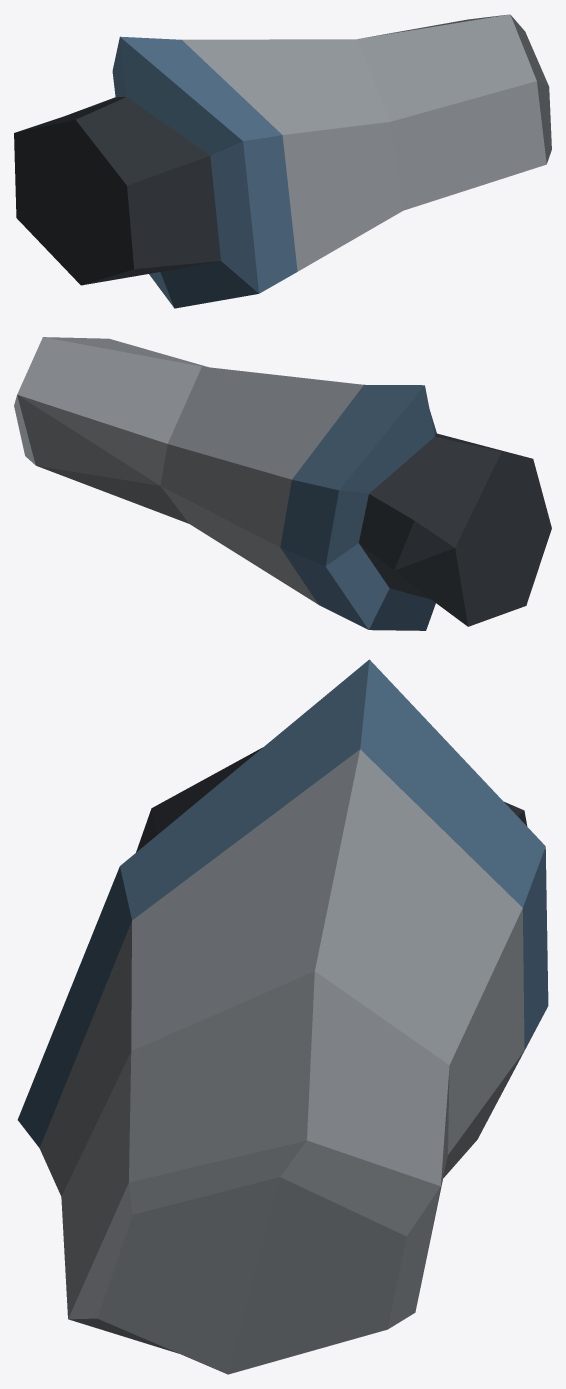
The model's file is Chr_ArmLowerLeft_Male_07_Static.fbx.
3 renders of one model, top to bottom at view 1: azimuth 30°, elevation 25°; view 2: azimuth 150°, elevation 25°; view 3: azimuth 270°, elevation 25°, orthographic. The views are drawn at different scales.
Parts seen in each view (by area): view 1: Chr_ArmLowerLeft_Male_07_Static; view 2: Chr_ArmLowerLeft_Male_07_Static; view 3: Chr_ArmLowerLeft_Male_07_Static.
Boxes of the visible parts, x1,y1,x2,y2 form: Chr_ArmLowerLeft_Male_07_Static: (14, 14, 551, 308); Chr_ArmLowerLeft_Male_07_Static: (14, 337, 551, 630); Chr_ArmLowerLeft_Male_07_Static: (17, 659, 548, 1374).
Bounding box in the file's own units: 0.2894 × 0.1568 × 0.1462.
